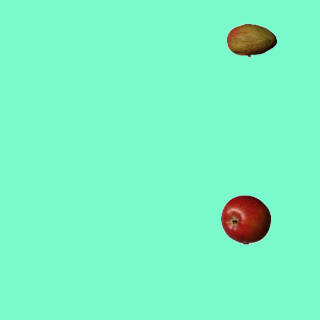Apple Braeburn: (220, 194, 270, 244)
Papaya: (226, 15, 276, 65)
